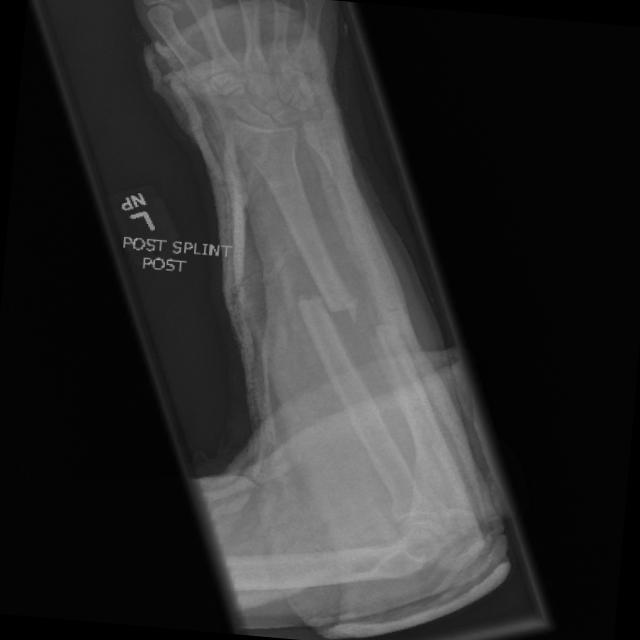forearm fracture: (265, 259, 383, 360)
